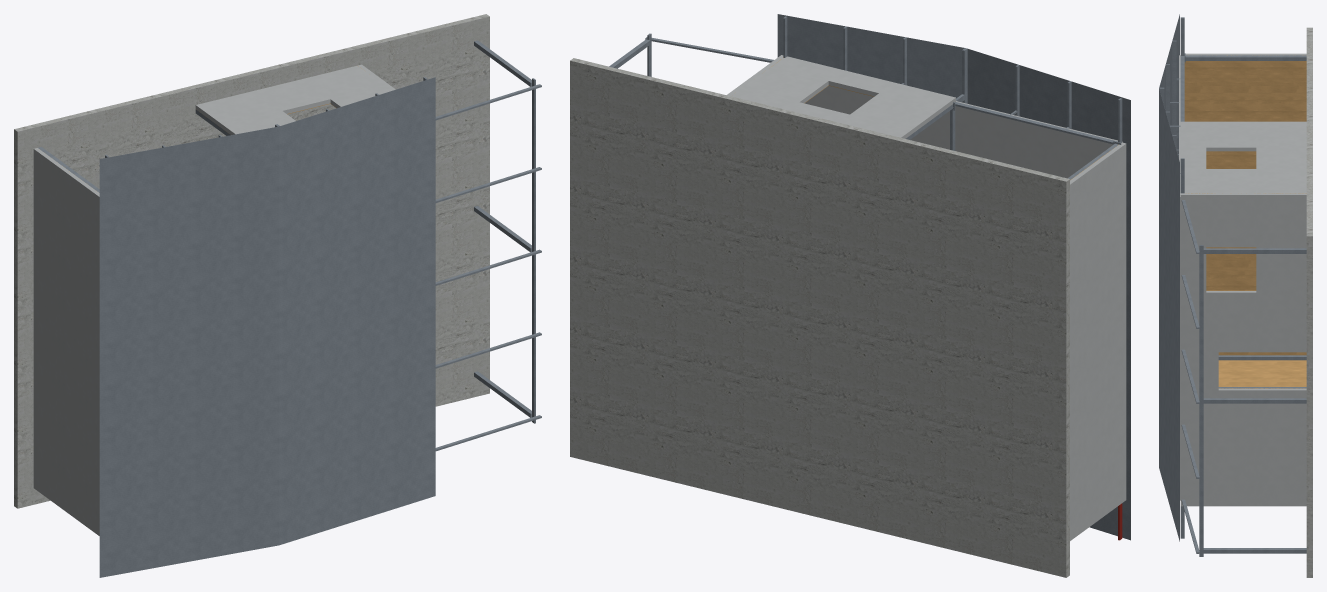
File: garaje2-mws3nfb6.glb
The picture shows the model from 3 angles, left to right: view 1: azimuth 30°, elevation 25°; view 2: azimuth 150°, elevation 25°; view 3: azimuth 270°, elevation 25°; orthographic projection. The views are drawn at different scales.
Visible parts, largest first — view 1: XAP_TEX_(1), XAP_TEX_(1)_(1), Body200, Body217, Body218, Body210, Body219, Body235, Body209; view 2: Body200, Body218, XAP_TEX_(1), XAP_TEX_(1)_(1), SANDTEX, Body219, Body217, Body208, Body210, Body209, SANDTEX_(1), Body222 (+1 smaller); view 3: Body225, Body213, XAP_TEX_(1)_(1), Body212, Body216, Body211, Body200, Body210, Body223, Body226, Body208, Body209 (+16 smaller).
Part boxes in pixels (x1,y1,x2,y2): XAP_TEX_(1): [99, 126, 279, 577]; XAP_TEX_(1)_(1): [279, 77, 435, 545]; Body200: [14, 14, 489, 508]; Body217: [33, 148, 64, 507]; Body218: [61, 168, 92, 528]; Body210: [195, 65, 385, 128]; Body219: [89, 188, 99, 535]; Body235: [532, 78, 535, 423]; Body209: [223, 111, 295, 134]; Body200: [570, 58, 1069, 577]; Body218: [1078, 153, 1111, 531]; XAP_TEX_(1): [967, 48, 1130, 540]; XAP_TEX_(1)_(1): [777, 14, 964, 98]; SANDTEX: [955, 101, 1122, 178]; Body219: [1108, 142, 1126, 510]; Body217: [1070, 174, 1082, 540]; Body208: [771, 56, 955, 112]; Body210: [731, 88, 911, 138]; Body209: [850, 93, 941, 133]; SANDTEX_(1): [805, 86, 949, 149]; Body222: [742, 67, 828, 103]; Body225: [1184, 55, 1306, 355]; Body213: [1206, 291, 1256, 506]; XAP_TEX_(1)_(1): [1159, 88, 1179, 541]; Body212: [1256, 193, 1306, 352]; Body216: [1180, 193, 1206, 506]; Body211: [1256, 388, 1306, 506]; Body200: [1306, 27, 1312, 577]; Body210: [1256, 121, 1306, 193]; Body223: [1206, 193, 1256, 247]; Body226: [1218, 360, 1306, 386]; Body208: [1180, 121, 1206, 193]; Body209: [1206, 121, 1256, 151].
Size of the model in its own units: 11.8 by 10 by 3.68.
Materials: 7 (7 with a texture image).
